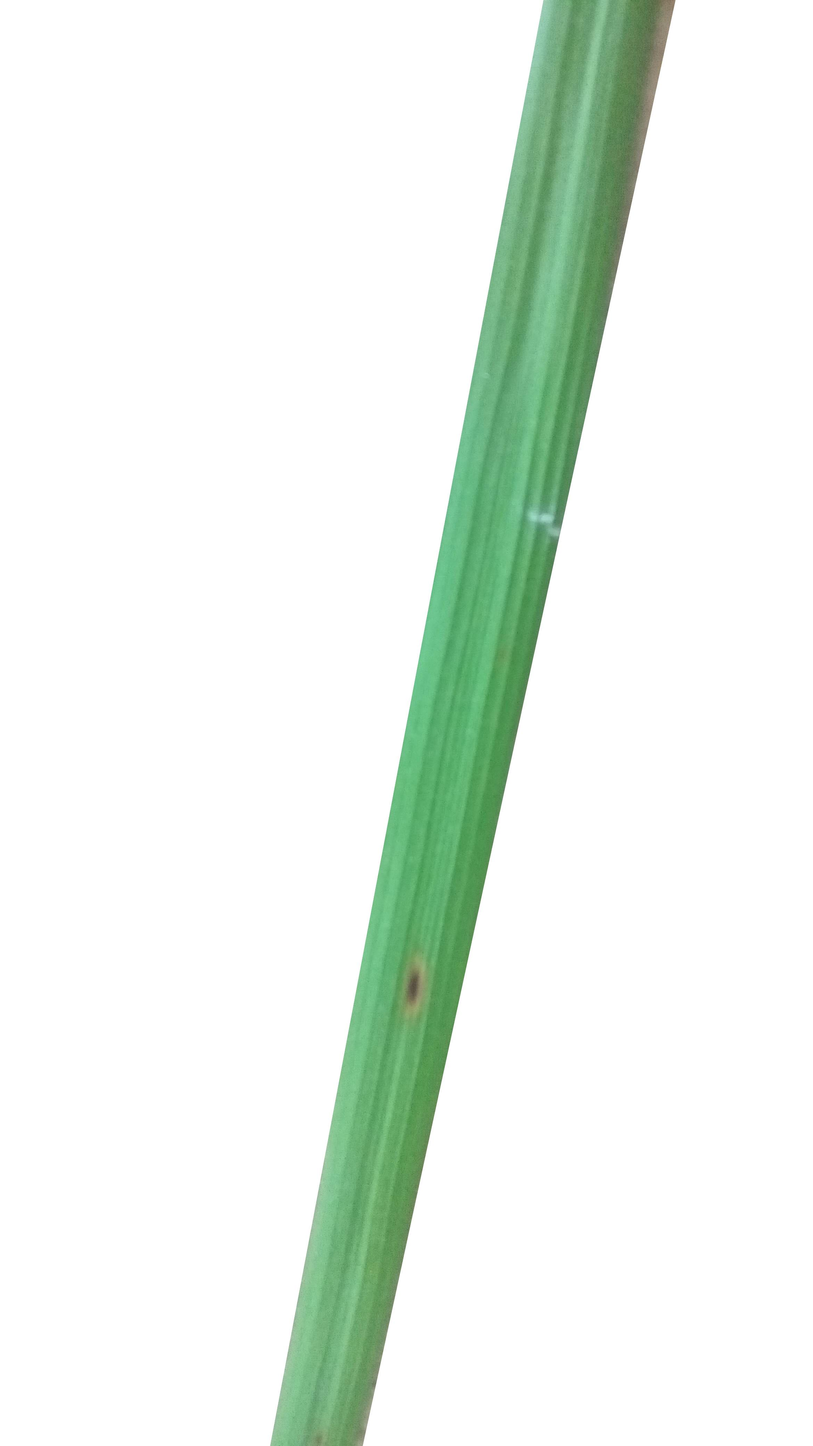Brown spot: (389, 949, 452, 1015)
